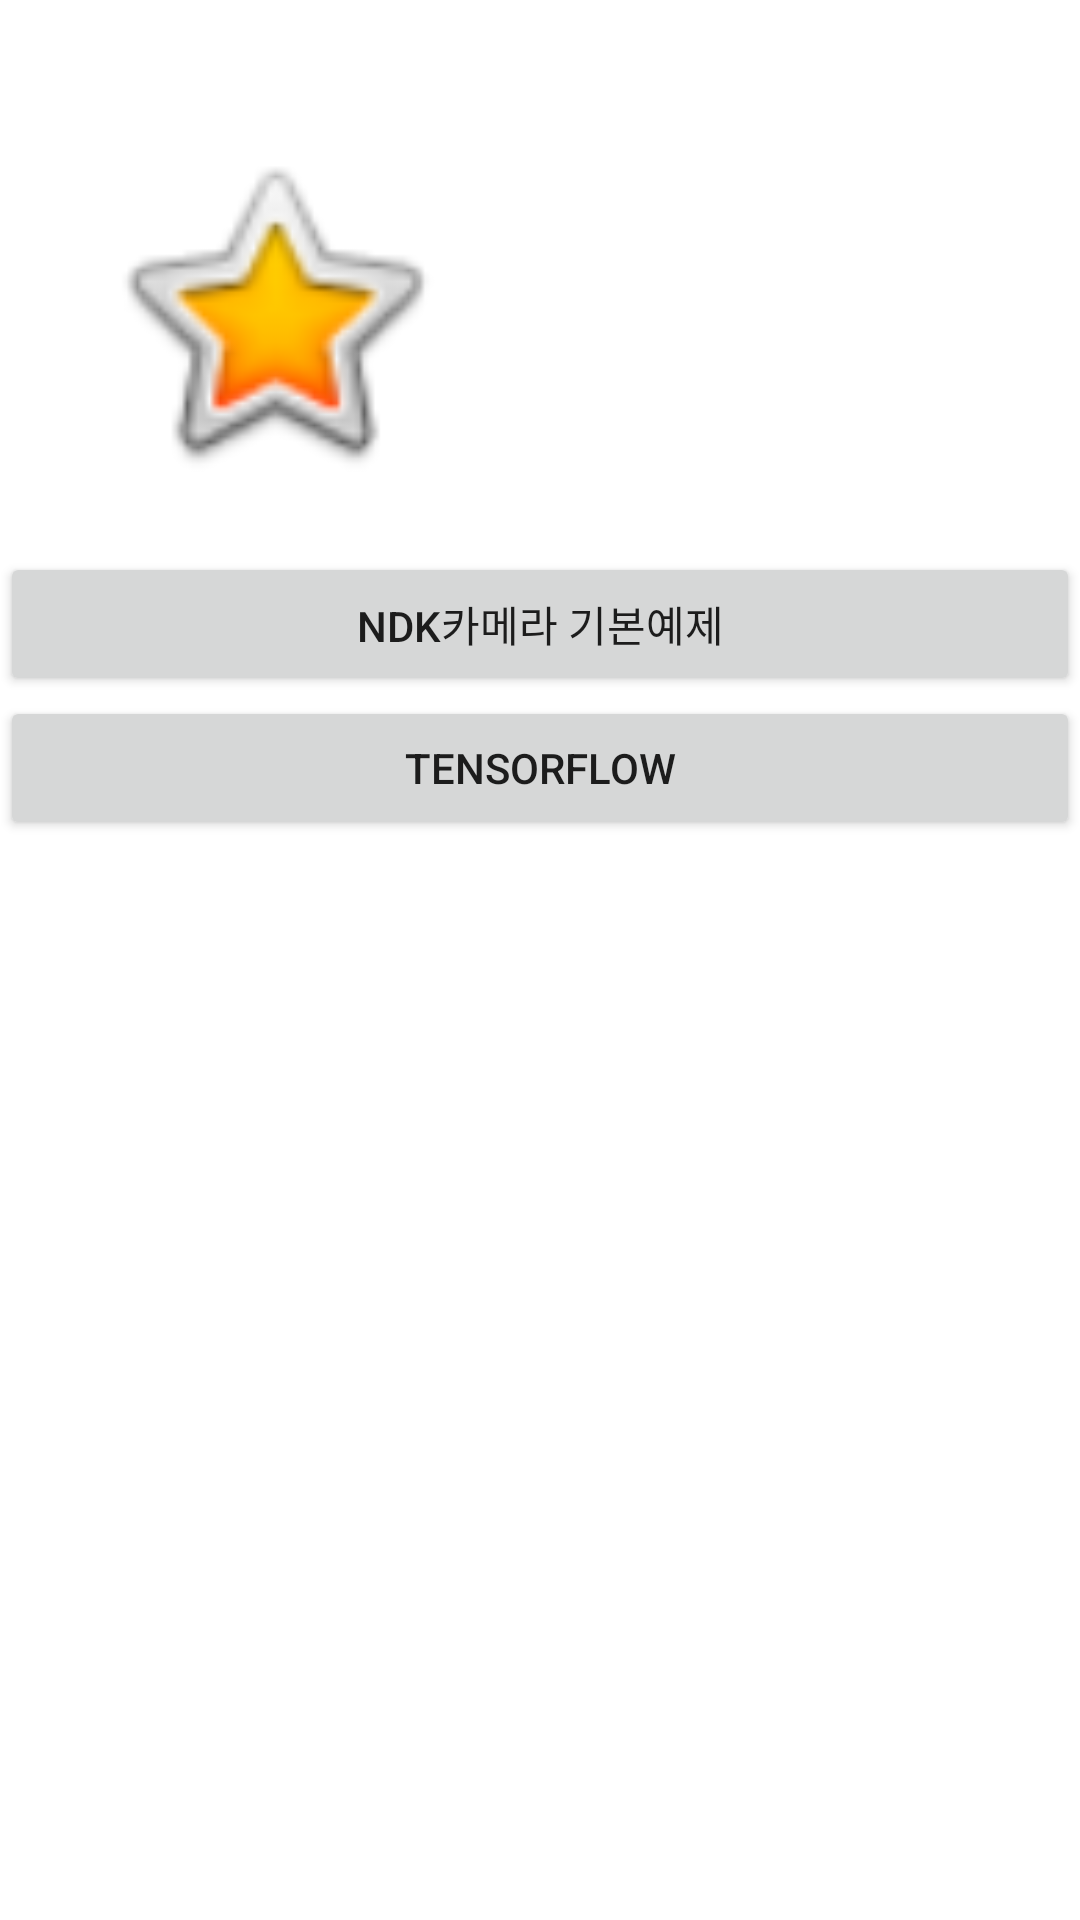

Where to tap for icons on this 1080x1920 app screen, as (x=x, y=y):
star on: (x=276, y=315)
